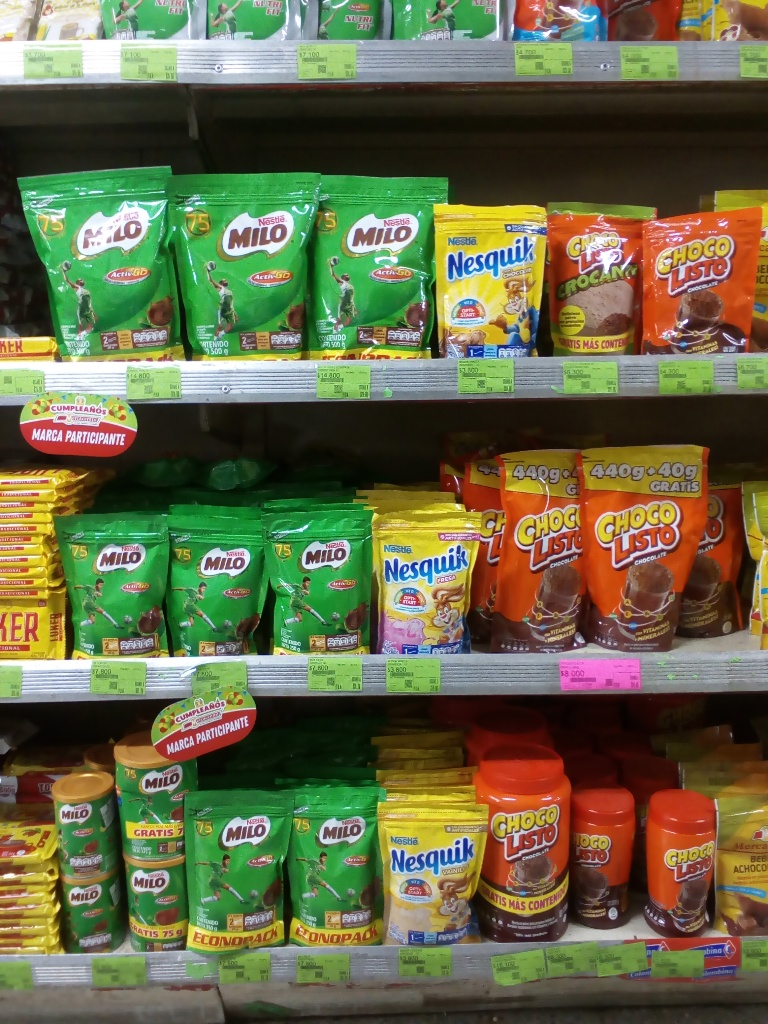COL0170103TRR00100: (472, 736, 573, 944)
COL0170103TRR30000: (567, 775, 642, 931)
COL0170203DYP25000: (50, 506, 171, 656)
COL0170203DYP50000: (21, 160, 182, 359)
COL0170203LAT20000: (46, 773, 116, 877)
COL0170303DYP20000: (433, 199, 549, 354)
COL0170305DYP20000: (377, 486, 478, 653)
COL0170306DYP20000: (383, 770, 483, 944)
